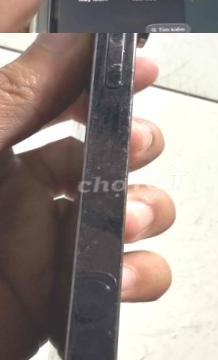scratch: (78, 33, 143, 129), (71, 219, 124, 289)
